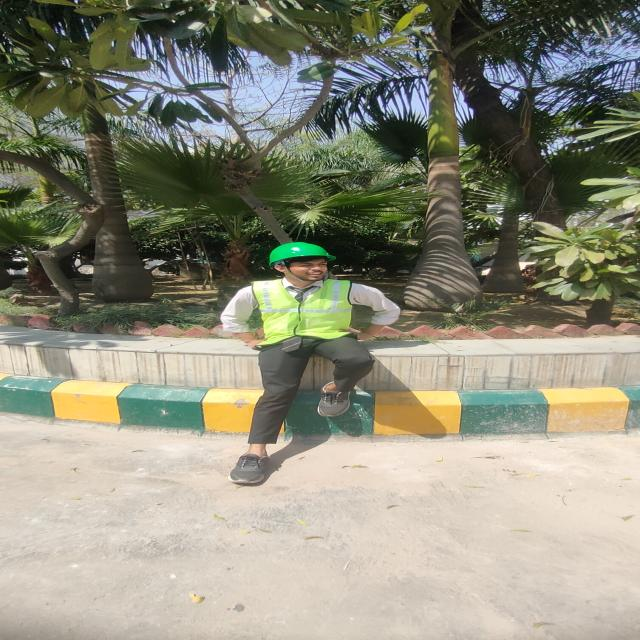safe: (220, 242, 374, 484)
